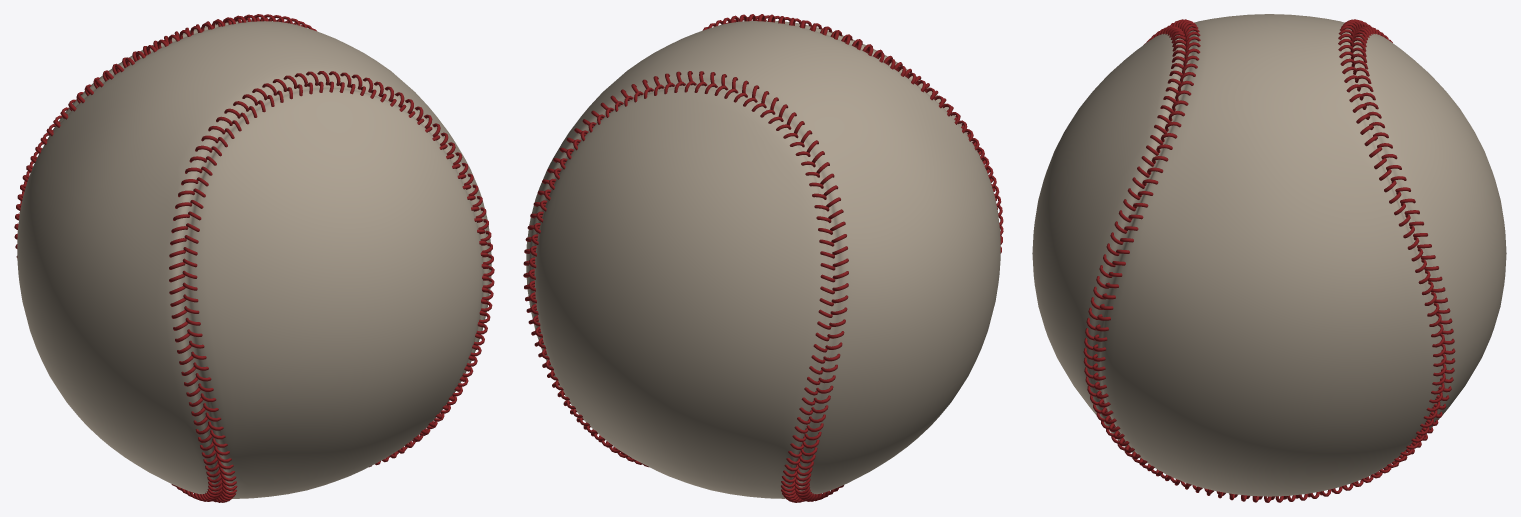
The model's file is ball.fbx.
The picture shows the model from 3 angles, left to right: view 1: azimuth 30°, elevation 25°; view 2: azimuth 150°, elevation 25°; view 3: azimuth 270°, elevation 25°; orthographic projection.
Parts seen in each view (by area): view 1: ball, トーラス; view 2: ball, トーラス; view 3: ball, トーラス.
Boxes of the visible parts, left/top/right/bottom form: ball: left=17, top=21, right=491, bottom=498; トーラス: left=14, top=14, right=494, bottom=502; ball: left=526, top=20, right=1000, bottom=498; トーラス: left=523, top=14, right=1003, bottom=502; ball: left=1032, top=14, right=1506, bottom=496; トーラス: left=1083, top=19, right=1455, bottom=502.
Bounding box in the file's own units: 160 × 163 × 160.
